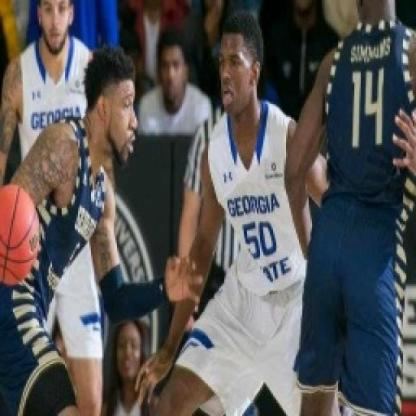basketball: (0, 180, 46, 289)
